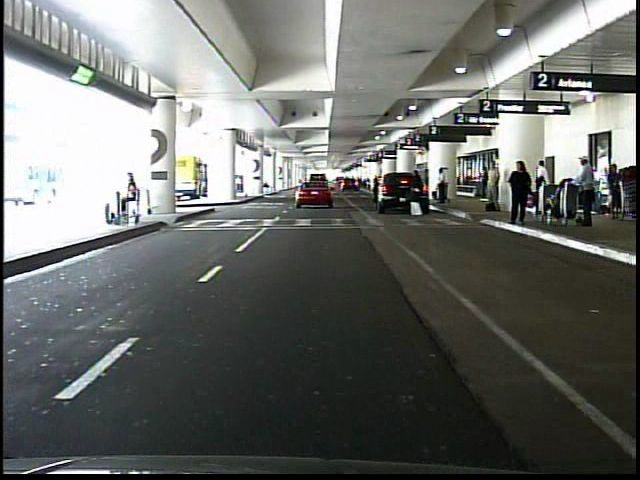person: (575, 155, 596, 236), (508, 158, 530, 227), (116, 170, 139, 223), (606, 165, 622, 222), (591, 167, 606, 214), (534, 160, 548, 206), (412, 171, 425, 217), (436, 167, 448, 206)
